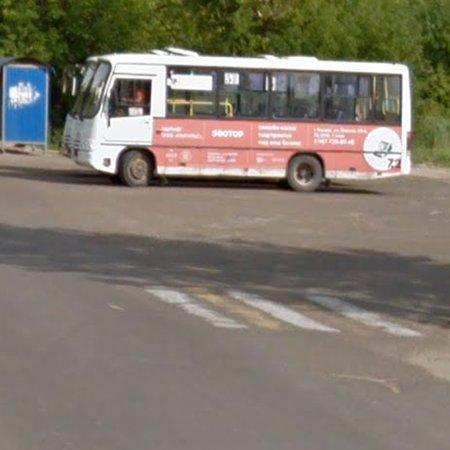buses: (63, 48, 413, 190)
